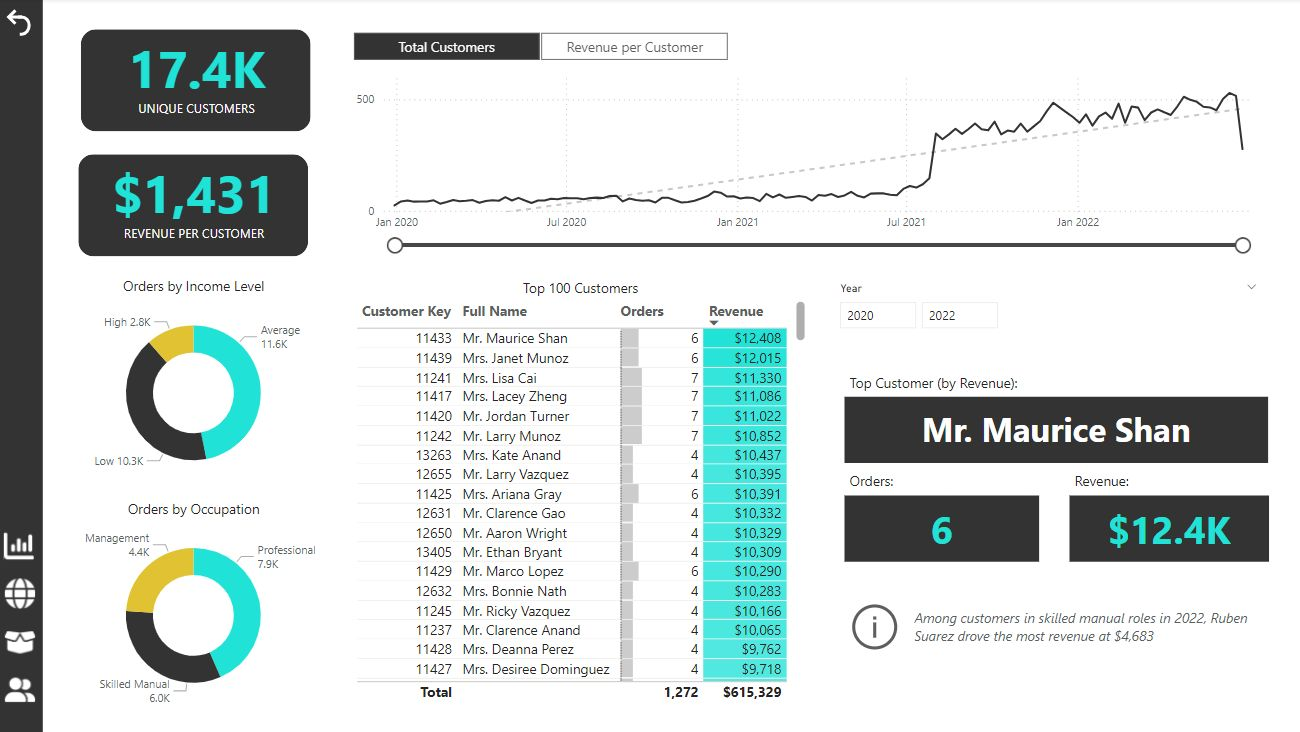

This screenshot's page, from the dashboard's own definition file:
{"tool":"powerbi","page":{"name":"Customer Detail","canvas":[1280,720],"ordinal":3},"visuals":[{"type":"shape","box":[0,0,45,720],"z":0},{"type":"actionButton","box":[2.5,516.7,45.6,37.8],"z":0,"group":"g1"},{"type":"shape","box":[81.7,30,225,100],"z":1000},{"type":"actionButton","box":[3.3,563.4,45.6,37.8],"z":1000,"group":"g1"},{"type":"actionButton","box":[3.3,611.1,45.6,37.8],"z":2000,"group":"g1"},{"type":"shape","box":[80,152.7,225,100],"z":2000},{"type":"card","fields":{"Values":["Measure Table.Total Customers"]},"box":[66.7,0,256.2,150],"z":3000},{"type":"actionButton","box":[3.3,657.8,45.6,37.8],"z":3000,"group":"g1"},{"type":"card","fields":{"Values":["Measure Table.Average Revenue per Customer"]},"box":[65,122.7,256.2,150],"z":4000},{"type":"lineChart","fields":{"Y":["Measure Table.Total Customers"],"Category":["Calendar Lookup.Date Hierarchy.Year","Calendar Lookup.Date Hierarchy.Start of Month","Calendar Lookup.Date Hierarchy.Start of Week","Calendar Lookup.Date Hierarchy.Date"]},"box":[345.9,63.3,898.6,188.8],"z":5000},{"type":"donutChart","title":"Orders by Income Level","fields":{"Category":["Customer Lookup.Income Level"],"Y":["Measure Table.Total Orders"]},"box":[63.8,272.5,257.5,210],"z":6000},{"type":"donutChart","title":"Orders by Occupation","fields":{"Y":["Measure Table.Total Orders"],"Category":["Customer Lookup.Occupation"]},"box":[63.8,490,257.5,210],"z":7000},{"type":"tableEx","title":"Top 100 Customers","fields":{"Values":["Customer Lookup.CustomerKey","Customer Lookup.Full Name","Measure Table.Total Orders","Measure Table.Total Revenue"]},"box":[346,273.6,449.4,418.4],"z":8000},{"type":"card","fields":{"Values":["Min(Customer Lookup.Full Name)"]},"box":[829.6,390.1,414.5,65.1],"z":9000},{"type":"card","fields":{"Values":["Measure Table.Total Orders"]},"box":[829.6,487,190.7,65.1],"z":10000},{"type":"card","fields":{"Values":["Measure Table.Total Revenue"]},"box":[1048.7,487,195.4,65.1],"z":11000},{"type":"textbox","box":[829.6,361.7,190.7,37.9],"z":12000},{"type":"textbox","box":[829.6,458.4,190.7,37.9],"z":13000},{"type":"textbox","box":[1048.7,458.4,190.7,37.9],"z":14000},{"type":"slicer","fields":{"Values":["Calendar Lookup.Year"]},"box":[811.6,272.4,432.9,80.3],"z":15000},{"type":"actionButton","box":[830,586.7,410,56.7],"z":16000},{"type":"actionButton","box":[3.3,5.6,35.6,35.6],"z":17000},{"type":"group","id":"g1","title":"Navigation Buttons","box":[2.5,516.7,46.4,178.9],"z":18000},{"type":"slicer","fields":{"Values":["Customer Metric Selection.Customer Metric Selection"]},"box":[323.3,27.1,415.9,36.2],"z":19000}]}

Visuals, with their boxes on the page's 1280x720 design canvas (x1, y1, x2, y2). These are canvas units, not pixel positions in the 1300x732 screenshot, which may show the page scaled, cropped or inside an application window:
shape: detection(0, 0, 45, 720)
actionButton: detection(2, 517, 48, 554)
shape: detection(82, 30, 307, 130)
actionButton: detection(3, 563, 49, 601)
actionButton: detection(3, 611, 49, 649)
shape: detection(80, 153, 305, 253)
card - Measure Table.Total Customers: detection(67, 0, 323, 150)
actionButton: detection(3, 658, 49, 696)
card - Measure Table.Average Revenue per Customer: detection(65, 123, 321, 273)
lineChart - Measure Table.Total Customers x Calendar Lookup.Date Hierarchy.Year: detection(346, 63, 1244, 252)
"Orders by Income Level" donutChart: detection(64, 272, 321, 482)
"Orders by Occupation" donutChart: detection(64, 490, 321, 700)
"Top 100 Customers" tableEx: detection(346, 274, 795, 692)
card - Min(Customer Lookup.Full Name): detection(830, 390, 1244, 455)
card - Measure Table.Total Orders: detection(830, 487, 1020, 552)
card - Measure Table.Total Revenue: detection(1049, 487, 1244, 552)
textbox: detection(830, 362, 1020, 400)
textbox: detection(830, 458, 1020, 496)
textbox: detection(1049, 458, 1239, 496)
slicer - Calendar Lookup.Year: detection(812, 272, 1244, 353)
actionButton: detection(830, 587, 1240, 643)
actionButton: detection(3, 6, 39, 41)
"Navigation Buttons" group: detection(2, 517, 49, 696)
slicer - Customer Metric Selection.Customer Metric Selection: detection(323, 27, 739, 63)
